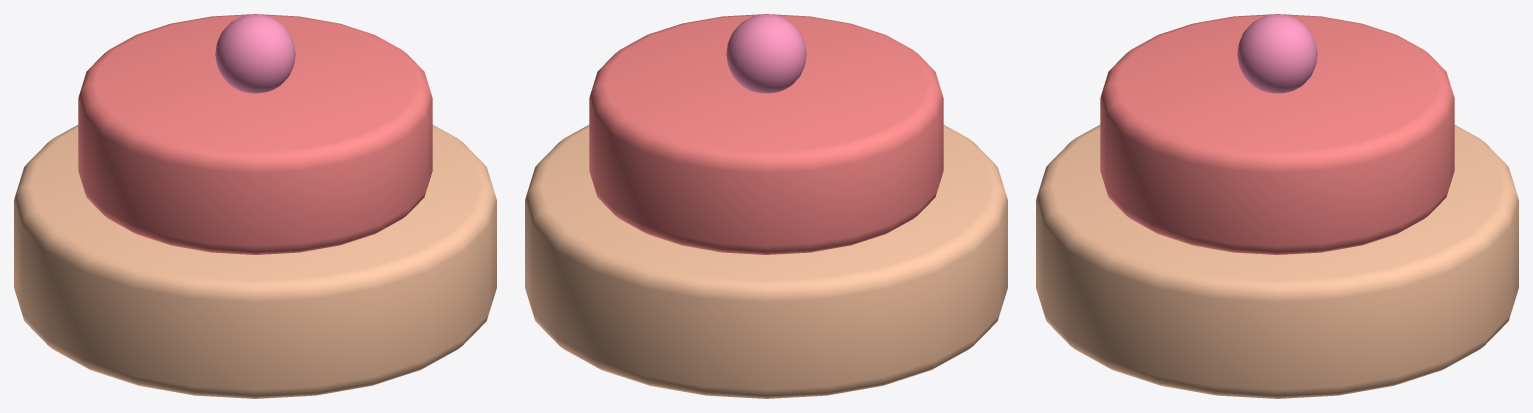
Rendered from cake.glb.
3 renders of one model, left to right at view 1: azimuth 30°, elevation 25°; view 2: azimuth 150°, elevation 25°; view 3: azimuth 270°, elevation 25°, orthographic.
Parts seen in each view (by area): view 1: cake; view 2: cake; view 3: cake.
Boxes of the visible parts, left/top/right/bottom form: cake: left=14, top=14, right=496, bottom=398; cake: left=525, top=14, right=1007, bottom=398; cake: left=1036, top=14, right=1518, bottom=398.
Size of the model in its own units: 0.6 by 0.39 by 0.6.
